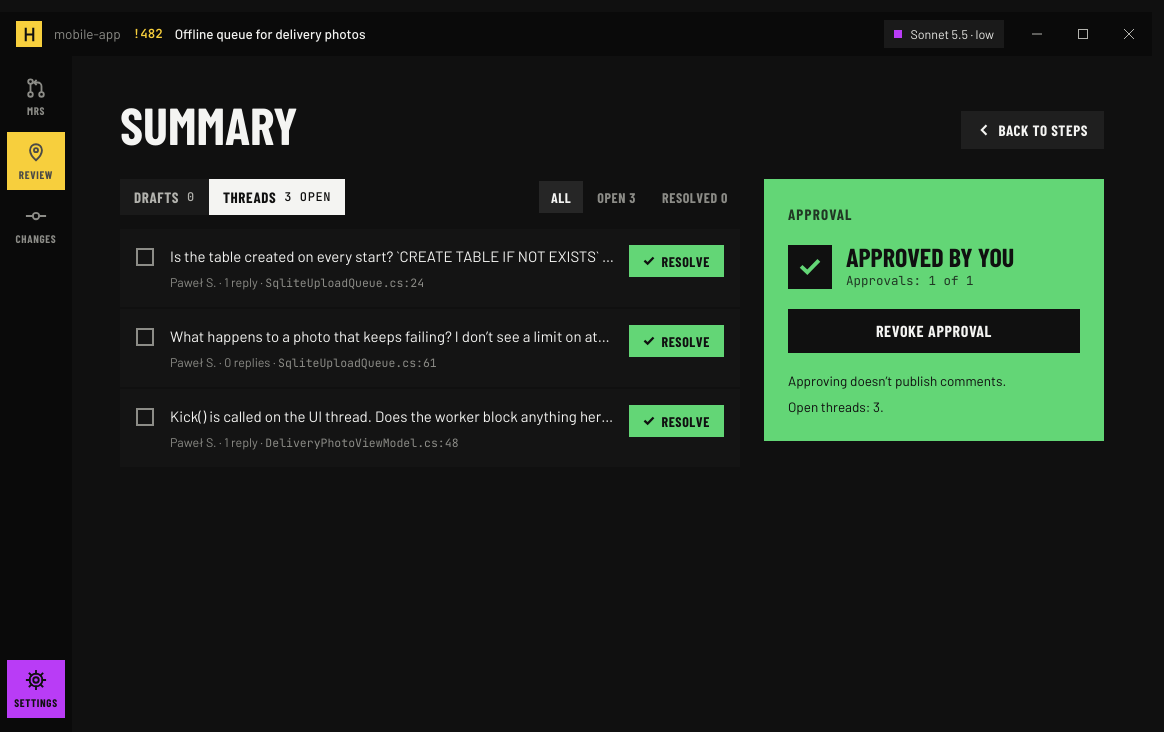
Test case: S-05 Approve MR and Revoke approval (F-14.2) › F-14.2 a failed Revoke shows its message as an alert and the tile stays approved
Expected: the element named "Comments" is shown, [120, 179, 345, 215]
Click the button "Revoke approval". click: click(934, 331)
box: [788, 309, 1080, 353]
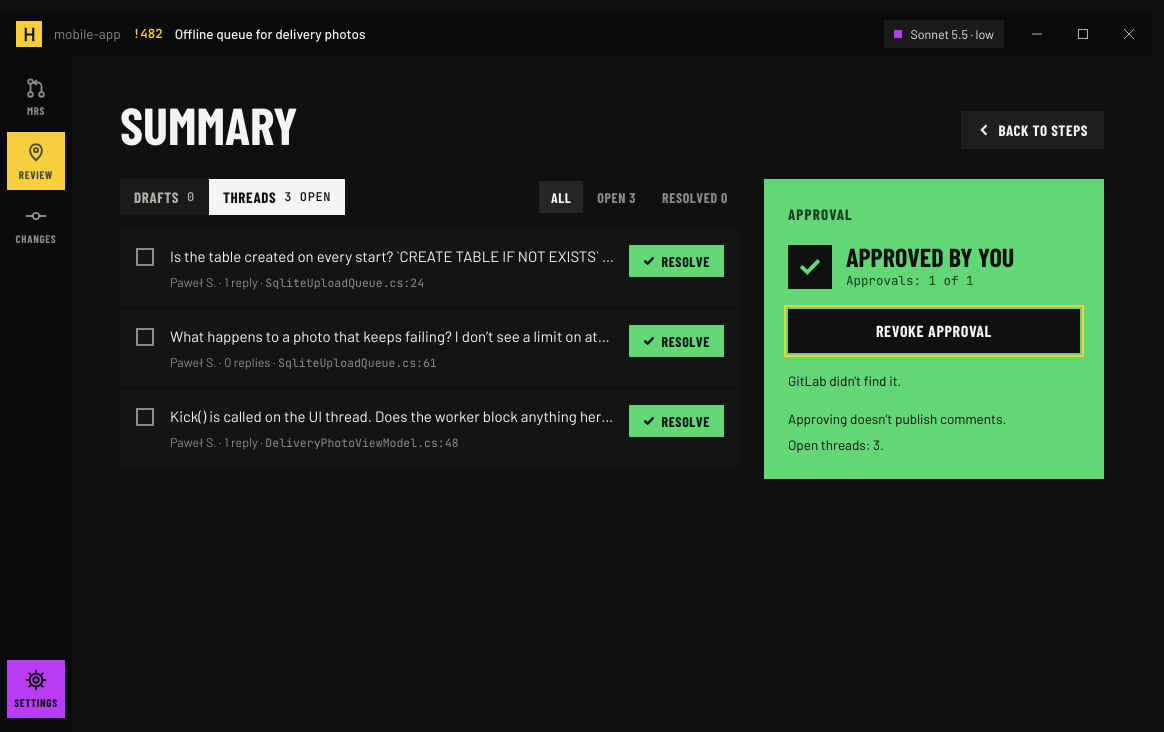
Expected: the text "Approved by you" is shown, [846, 244, 1014, 270]
Expected: the message reads "GitLab didn't find it.", [788, 372, 901, 389]
